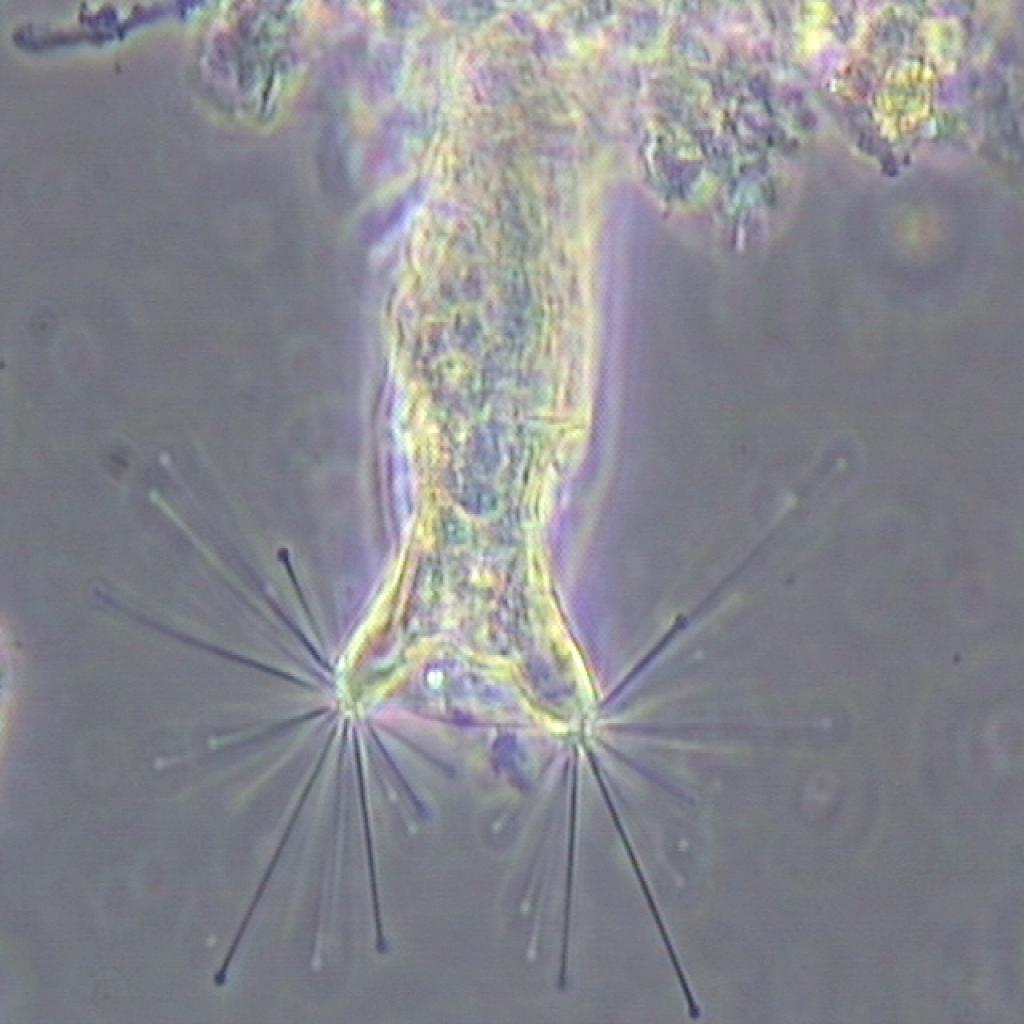Rotatoria: (133, 12, 781, 1010)
